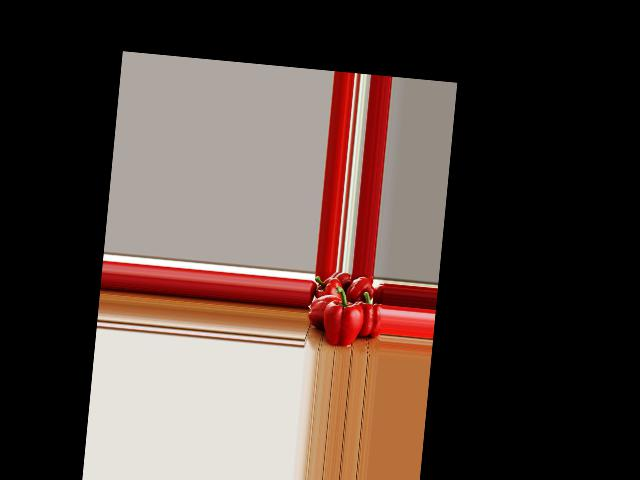bell_pepper: (311, 275, 343, 301)
